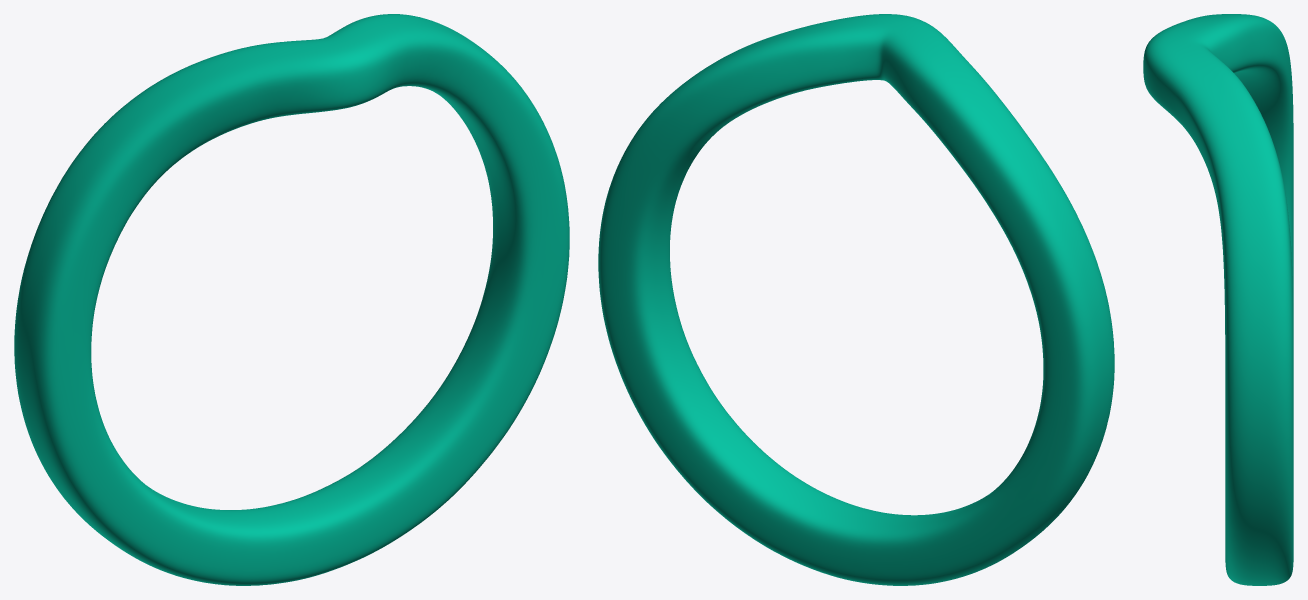
Rendered from BE2178_RENDER.glb.
3 renders of one model, left to right at view 1: azimuth 30°, elevation 25°; view 2: azimuth 150°, elevation 25°; view 3: azimuth 270°, elevation 25°, orthographic. The views are drawn at different scales.
Visible parts, largest first — view 1: Metal03; view 2: Metal03; view 3: Metal03.
Part boxes in pixels (x1,y1,x2,y2): Metal03: (14, 14, 569, 585); Metal03: (598, 14, 1114, 585); Metal03: (1143, 14, 1293, 585).
Bounding box in the file's own units: 20.9 × 20.89 × 5.49.
